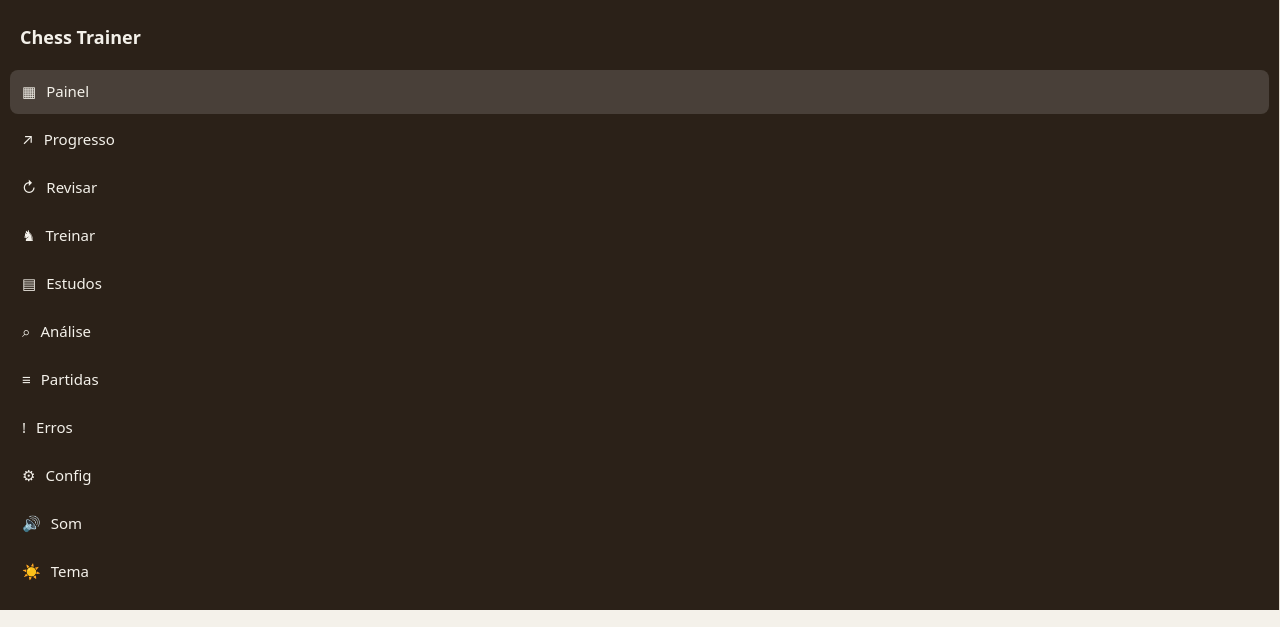
Test: clicar desliga o som e guarda a preferência
The image size is (1280, 627).
Click the button with aria-label "Som ligado": (66, 523) [10, 502, 1269, 546]
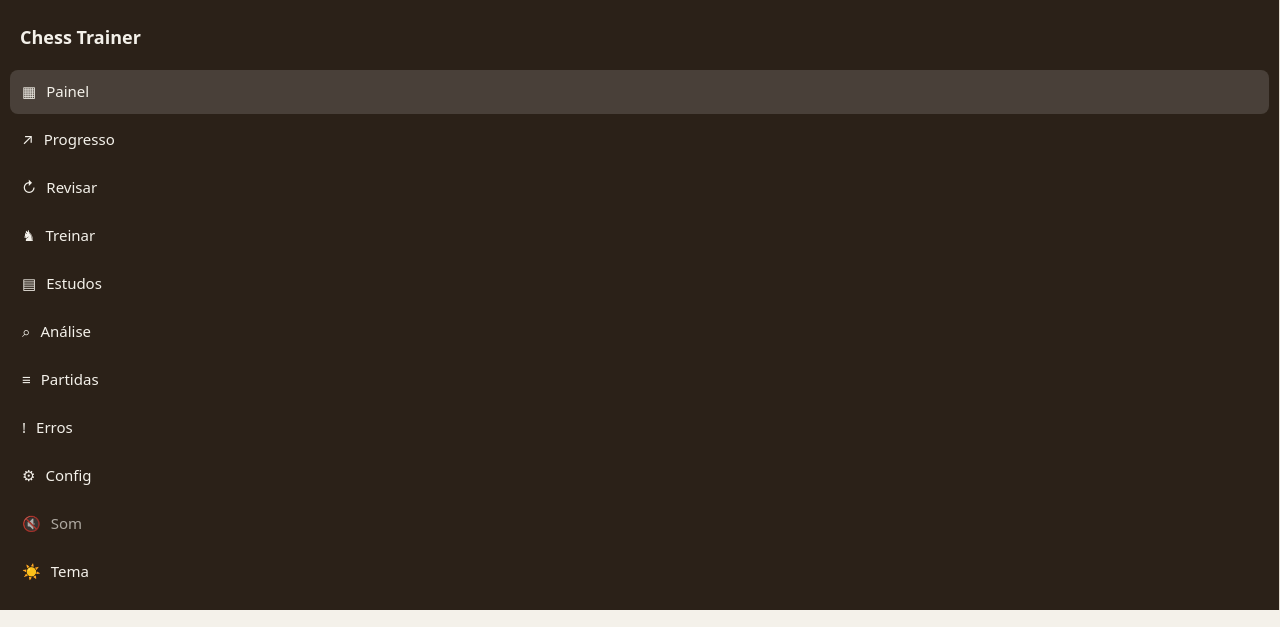
Result: the button with aria-label "Som desligado" shows "🔇" at [10, 502, 1269, 546]
